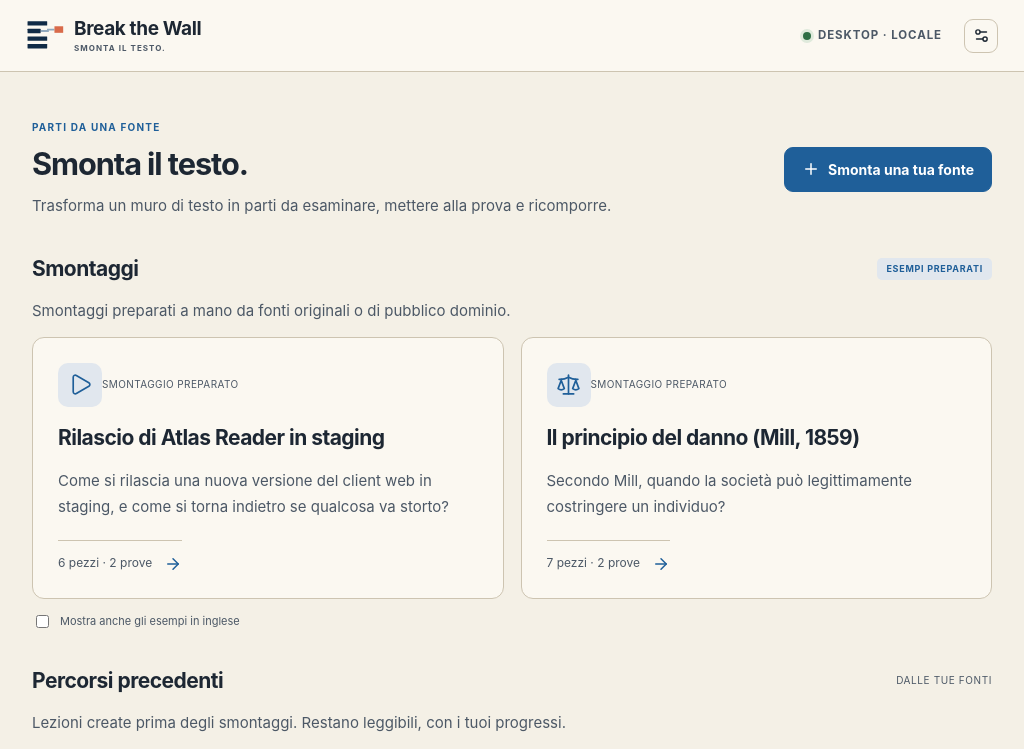
Scenario: rendered language › library, studio and lesson player read as the interface language (it-IT)
Click the button "Smonta una tua fonte": click(888, 169) [784,147,992,192]
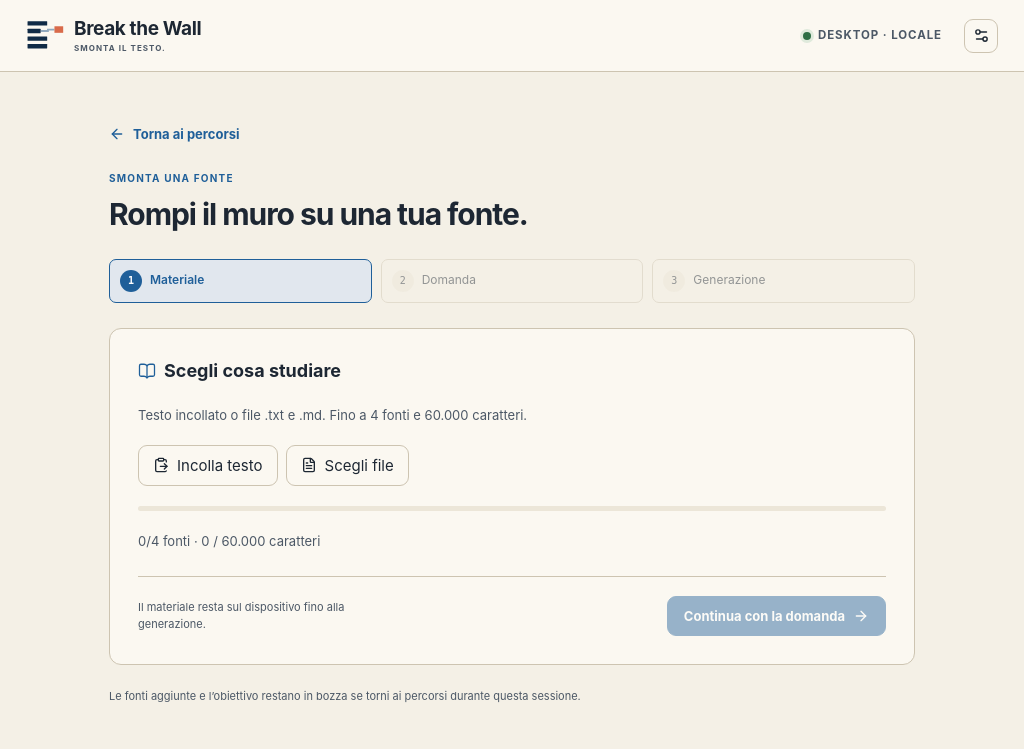
Click the button "Torna ai percorsi": click(174, 134) [109,120,240,148]
(page scrolled)
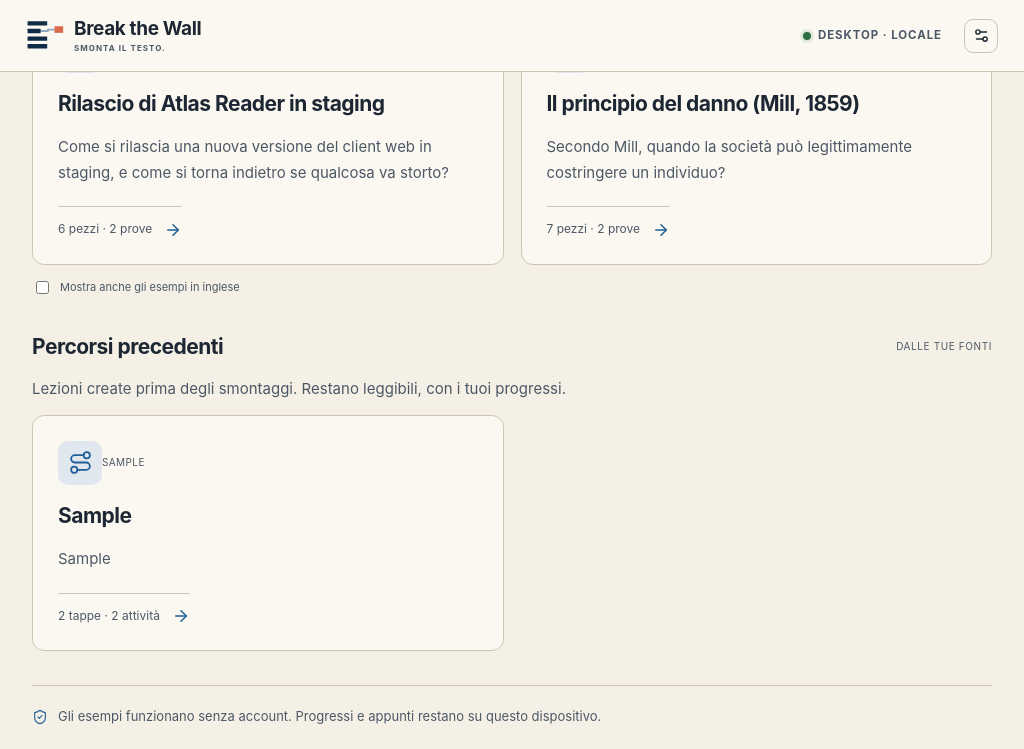
Click the button "Sample Sample Sample 2 tappe · 2 attività": click(80, 463) [32,415,504,651]
(page scrolled)
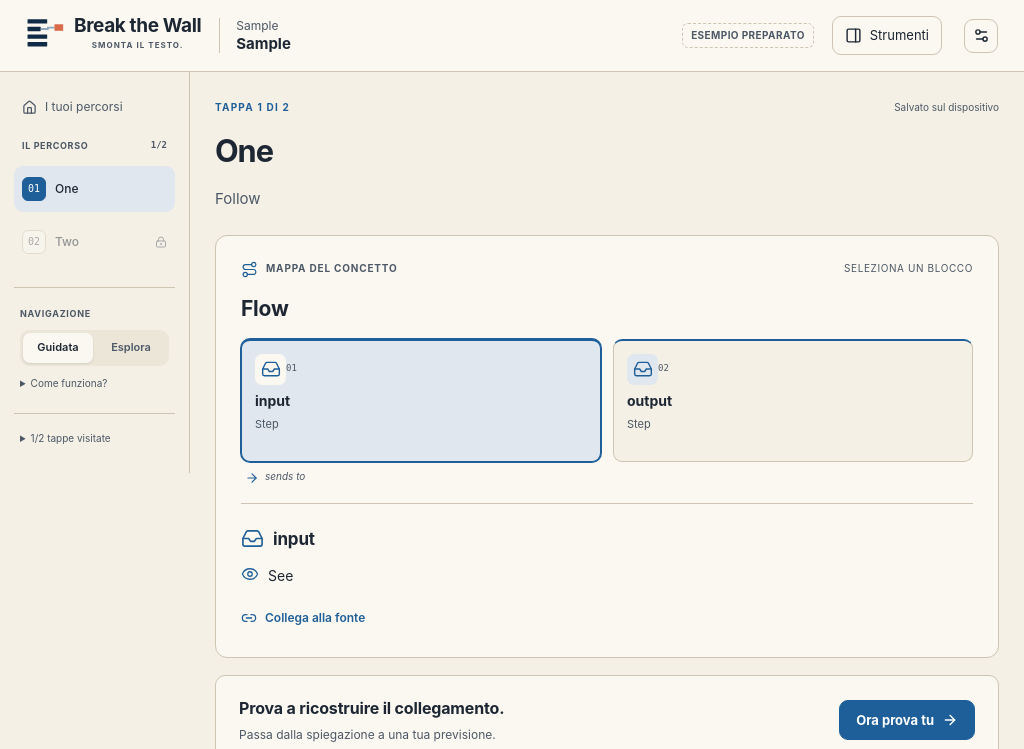
Now the heading "One" is shown, box [215,132,273,168]
